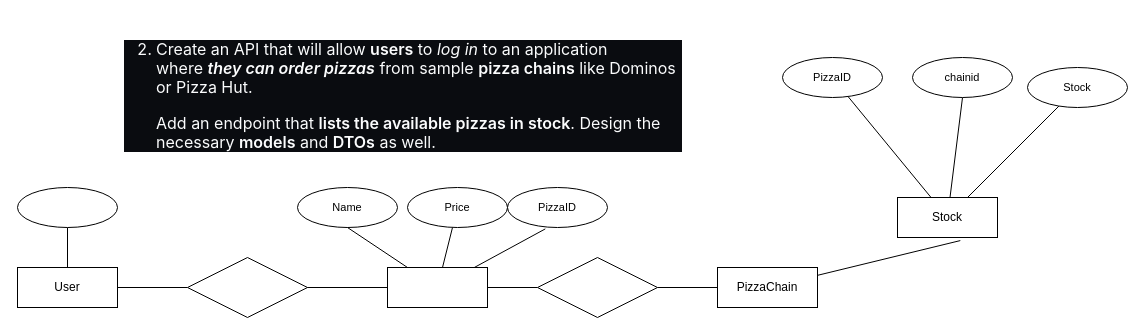
This 1145x335 diagram has some shape labels left out. The shapes that lost their labels are listed below. From the top down, each one's centre as x and y in pixels, then its label:
the point at 67,207: Type
the point at 247,287: Orders
the point at 437,287: Pizza
the point at 597,287: From
